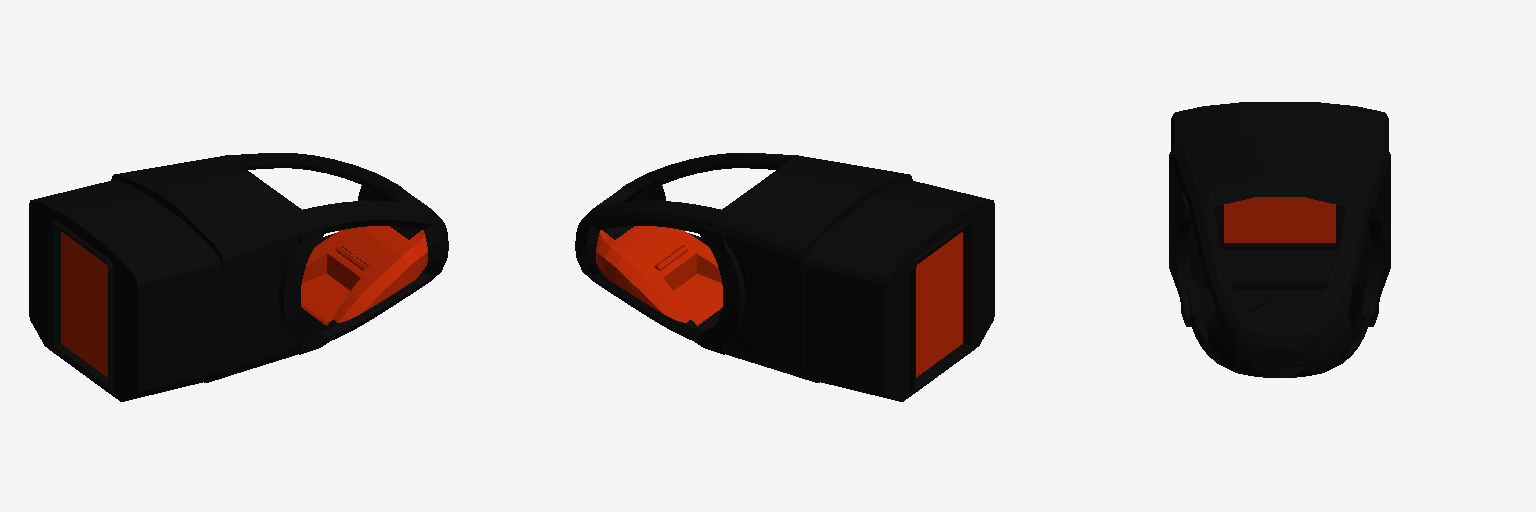
File: rhino_cockpit.obj
3 views of the same model, side by side, from view 1: azimuth 30°, elevation 25°; view 2: azimuth 150°, elevation 25°; view 3: azimuth 270°, elevation 25° (orthographic).
Parts seen in each view (by area): view 1: object_2, object_1; view 2: object_2, object_1; view 3: object_2, object_1.
Boxes of the visible parts, x1,y1,x2,y2 form: object_2: [29, 153, 448, 401]; object_1: [61, 226, 427, 377]; object_2: [575, 153, 994, 401]; object_1: [596, 226, 962, 377]; object_2: [1169, 102, 1390, 377]; object_1: [1224, 197, 1335, 242].
Bounding box in the file's own units: 8.24 × 3.45 × 4.48.